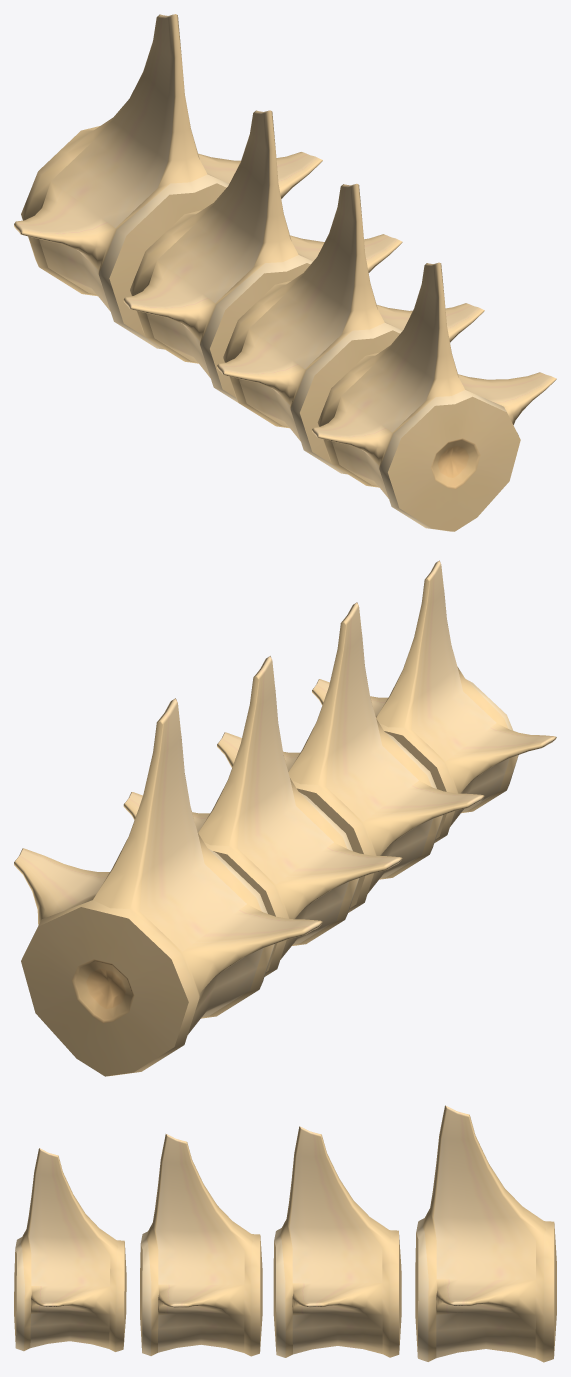
Rendered from SpineChunk4.fbx.
3 renders of one model, top to bottom at view 1: azimuth 30°, elevation 25°; view 2: azimuth 150°, elevation 25°; view 3: azimuth 270°, elevation 25°, orthographic. The views are drawn at different scales.
Parts seen in each view (by area): view 1: polySurface15; view 2: polySurface15; view 3: polySurface15.
Boxes of the visible parts, x1,y1,x2,y2 form: polySurface15: (14, 14, 556, 531); polySurface15: (14, 560, 556, 1076); polySurface15: (14, 1105, 556, 1362).
Size of the model in its own units: 1.45 by 1.52 by 2.94.
